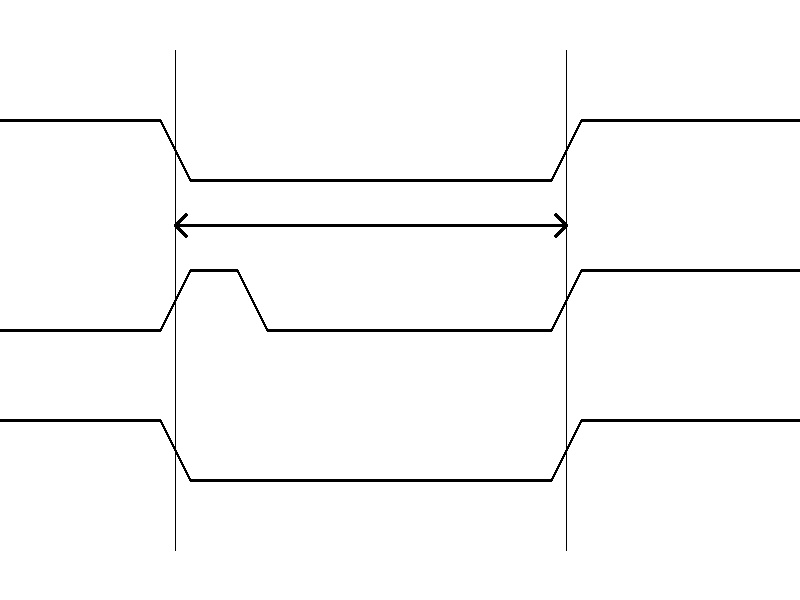double_arrow: (175, 210, 566, 240)
